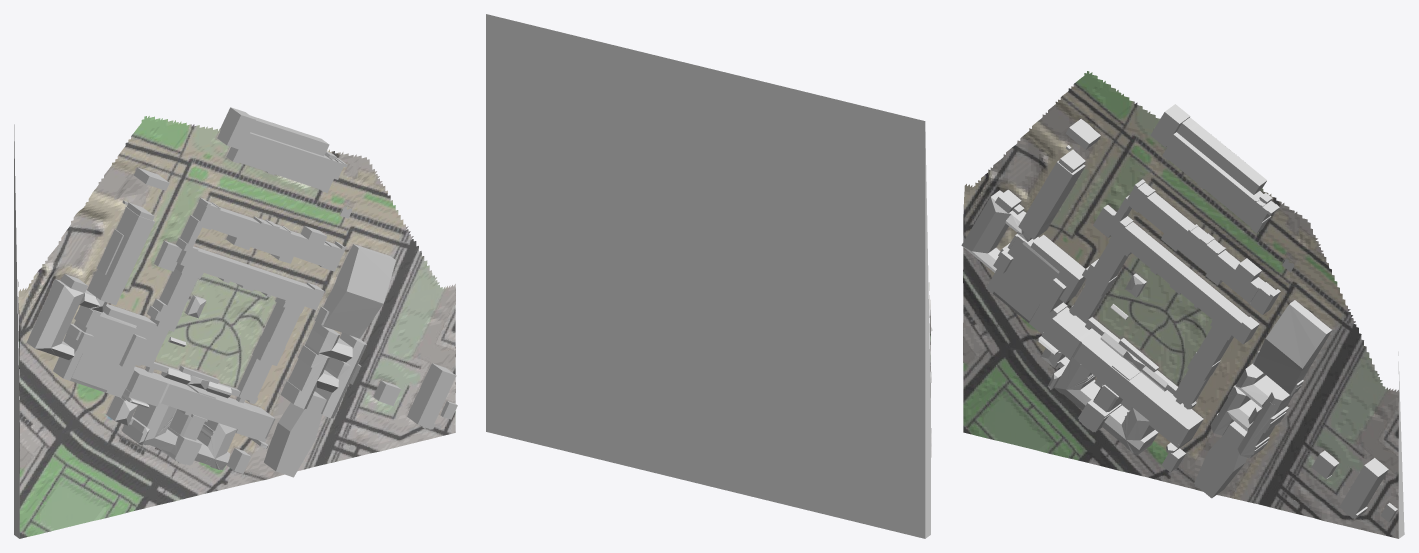
The picture shows the model from 3 angles, left to right: view 1: azimuth 30°, elevation 25°; view 2: azimuth 150°, elevation 25°; view 3: azimuth 330°, elevation 25°; orthographic projection.
Visible parts, largest first — view 1: terrain, buildings; view 2: terrain; view 3: terrain, buildings.
Boxes of the visible parts, x1,y1,x2,y2 form: terrain: (14,116,455,538); buildings: (26,107,457,477); terrain: (486,14,931,538); terrain: (963,71,1404,538); buildings: (961,104,1397,521).
Bounding box in the file's own units: 330 × 300 × 35.77.
Materials: 3 (1 with a texture image).
